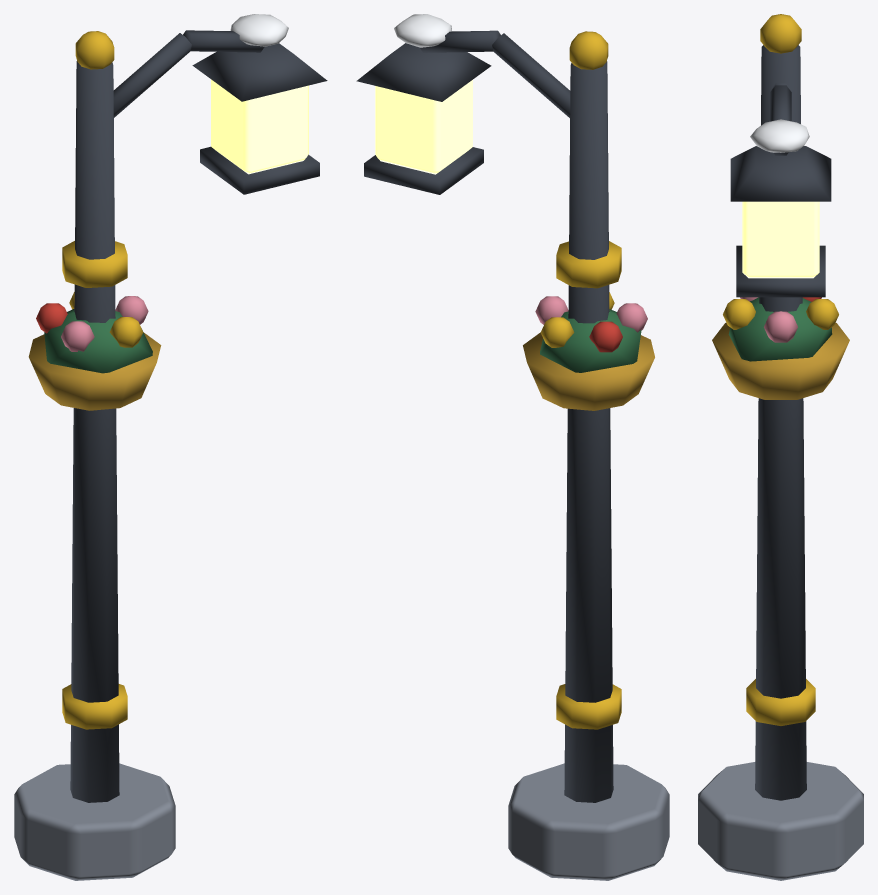
Rendered from deco_lantern_post.glb.
The picture shows the model from 3 angles, left to right: view 1: azimuth 30°, elevation 25°; view 2: azimuth 150°, elevation 25°; view 3: azimuth 270°, elevation 25°; orthographic projection.
Visible parts, largest first — view 1: deco_lantern_post; view 2: deco_lantern_post; view 3: deco_lantern_post.
Boxes of the visible parts, <box> form: deco_lantern_post: <box>14,14,327,880</box>; deco_lantern_post: <box>356,14,669,880</box>; deco_lantern_post: <box>698,14,863,880</box>.
Bounding box in the file's own units: 0.7593 × 2.13 × 0.3847.
